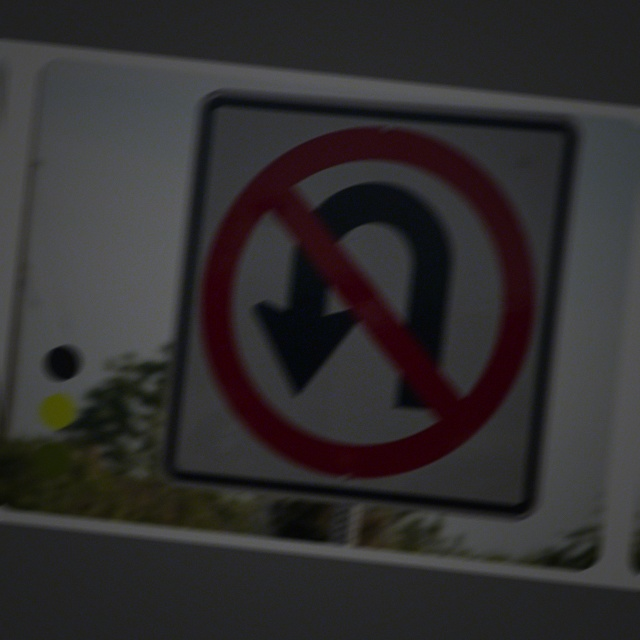U_Turn_Prohibited: (183, 104, 563, 504)
